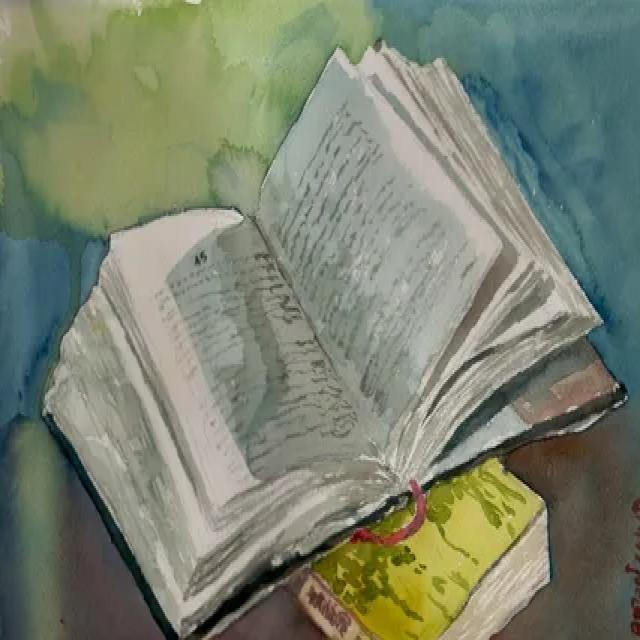book: (35, 36, 626, 632)
